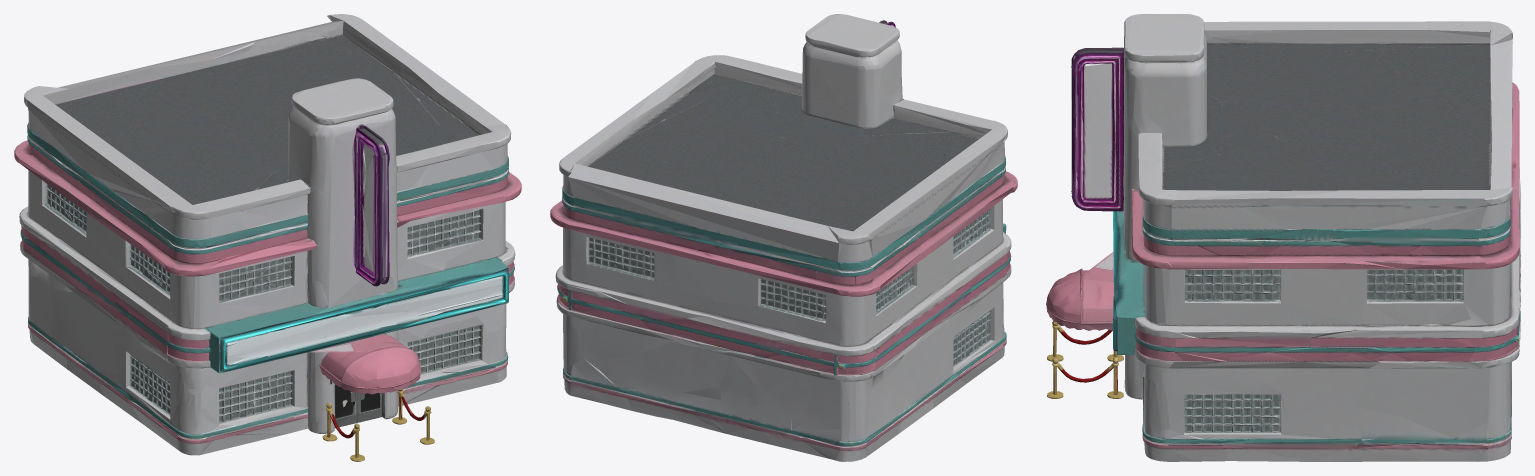
File: club.glb
The picture shows the model from 3 angles, left to right: view 1: azimuth 30°, elevation 25°; view 2: azimuth 150°, elevation 25°; view 3: azimuth 270°, elevation 25°; orthographic projection. The views are drawn at different scales.
Visible parts, largest first — view 1: Mesh_0; view 2: Mesh_0; view 3: Mesh_0.
Part boxes in pixels (x1=…): Mesh_0: x1=14, y1=14, x2=521, y2=461; Mesh_0: x1=550, y1=14, x2=1017, y2=461; Mesh_0: x1=1046, y1=14, x2=1520, y2=461.
Bounding box in the file's own units: 1.78 × 1.52 × 1.9.
Materials: 1 (1 with a texture image).
